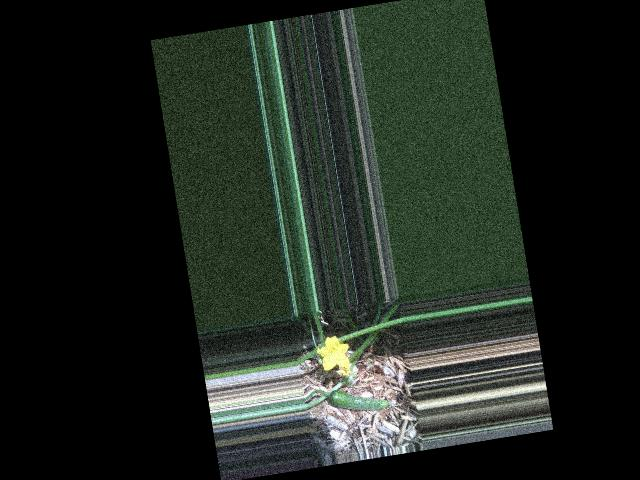cucumber: (327, 380, 395, 418)
